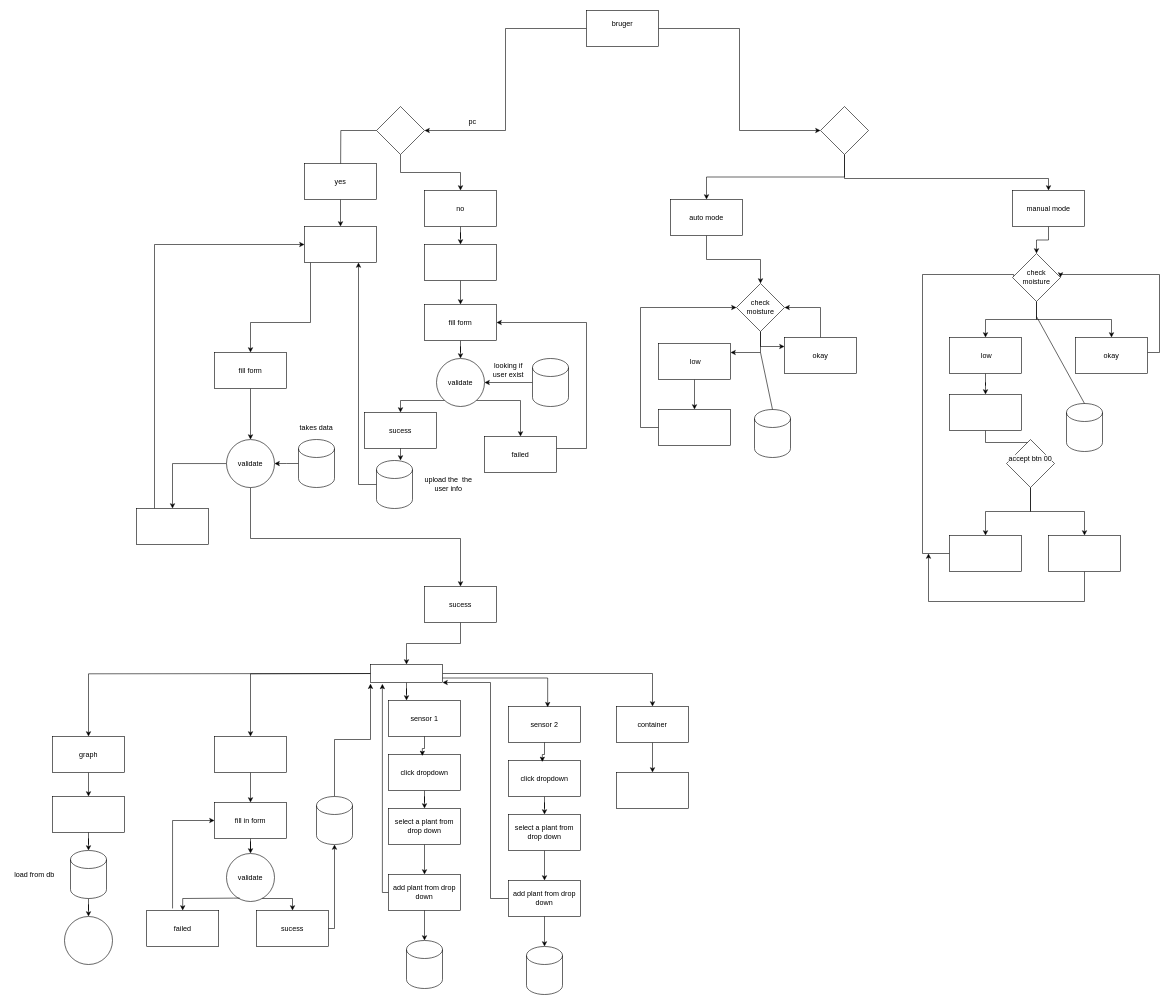
Image size: 1175x1005. Some labels were removed from this diagram. Each missing label, with the centre of its shape:
"add plant manually" belongs at point (250, 754).
"arduino" belongs at point (844, 130).
"dashboard" belongs at point (406, 673).
"fail" belongs at point (172, 526).
"have login" belongs at point (400, 130).
"load data" belongs at point (88, 940).
"login" belongs at point (340, 244).
"notification" belongs at point (985, 412).
"person water the plant" belongs at point (985, 553).
"select time period" belongs at point (88, 814).
"show how much water there is in the container" belongs at point (652, 790).
"sign up" belongs at point (460, 262).
"user use dashboard" belongs at point (1084, 553).
"water plant" belongs at point (694, 427).
